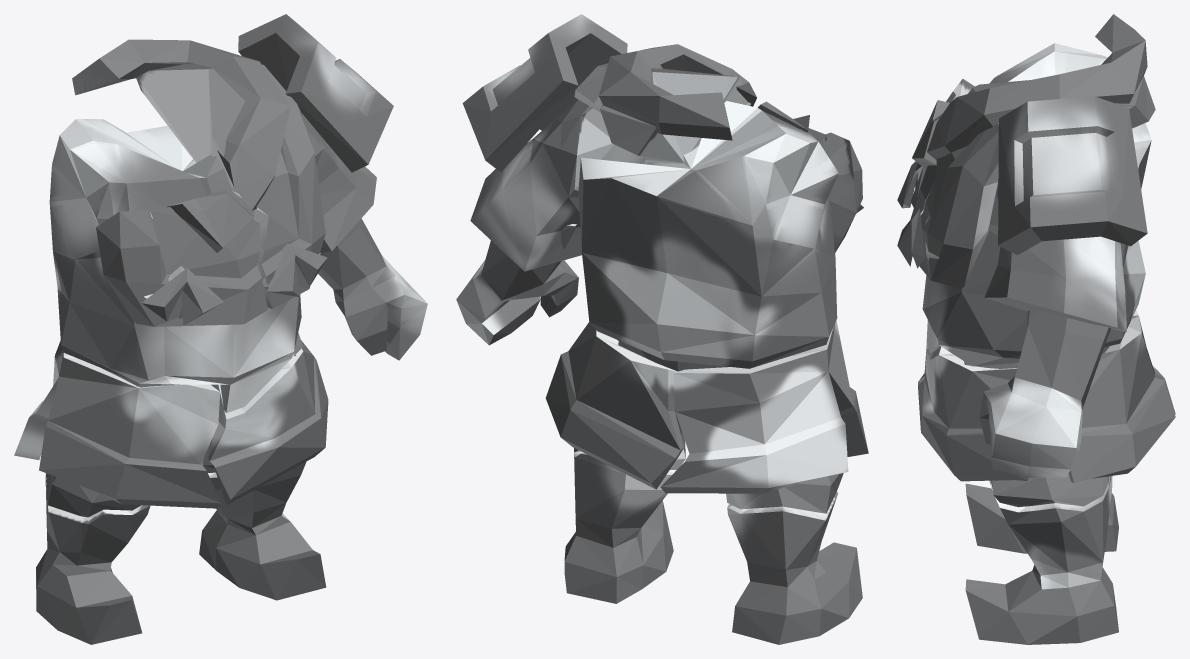
File: SubDecoration_8.fbx
The picture shows the model from 3 angles, left to right: view 1: azimuth 30°, elevation 25°; view 2: azimuth 150°, elevation 25°; view 3: azimuth 270°, elevation 25°; orthographic projection. The views are drawn at different scales.
Parts seen in each view (by area): view 1: terrain_mound_101_36_LOD0; view 2: terrain_mound_101_36_LOD0; view 3: terrain_mound_101_36_LOD0.
Boxes of the visible parts, x1,y1,x2,y2 form: terrain_mound_101_36_LOD0: (14,14,427,644); terrain_mound_101_36_LOD0: (456,14,868,644); terrain_mound_101_36_LOD0: (897,14,1175,644).
Size of the model in its own units: 95.97 by 127 by 58.31.
1 material, 1 textured.
